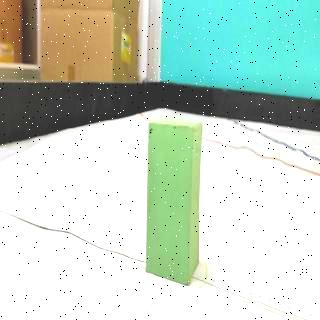greenbox: (145, 118, 203, 288)
